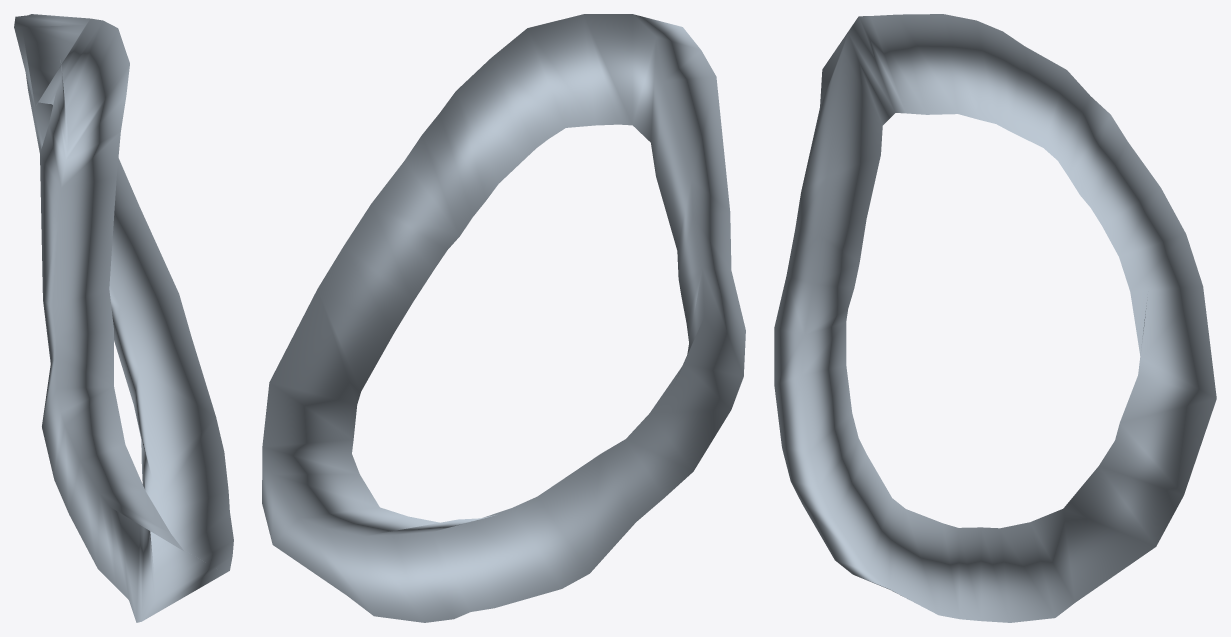
Rendered from glenoid-labrum-l.glb.
3 renders of one model, left to right at view 1: azimuth 30°, elevation 25°; view 2: azimuth 150°, elevation 25°; view 3: azimuth 270°, elevation 25°, orthographic. The views are drawn at different scales.
Parts seen in each view (by area): view 1: Glenoid labrum.l; view 2: Glenoid labrum.l; view 3: Glenoid labrum.l.
Part boxes in pixels (<box>): Glenoid labrum.l: <box>14,14,233,622</box>; Glenoid labrum.l: <box>262,14,745,622</box>; Glenoid labrum.l: <box>774,14,1216,622</box>.
Bounding box in the file's own units: 0.0194 × 0.036 × 0.026.
